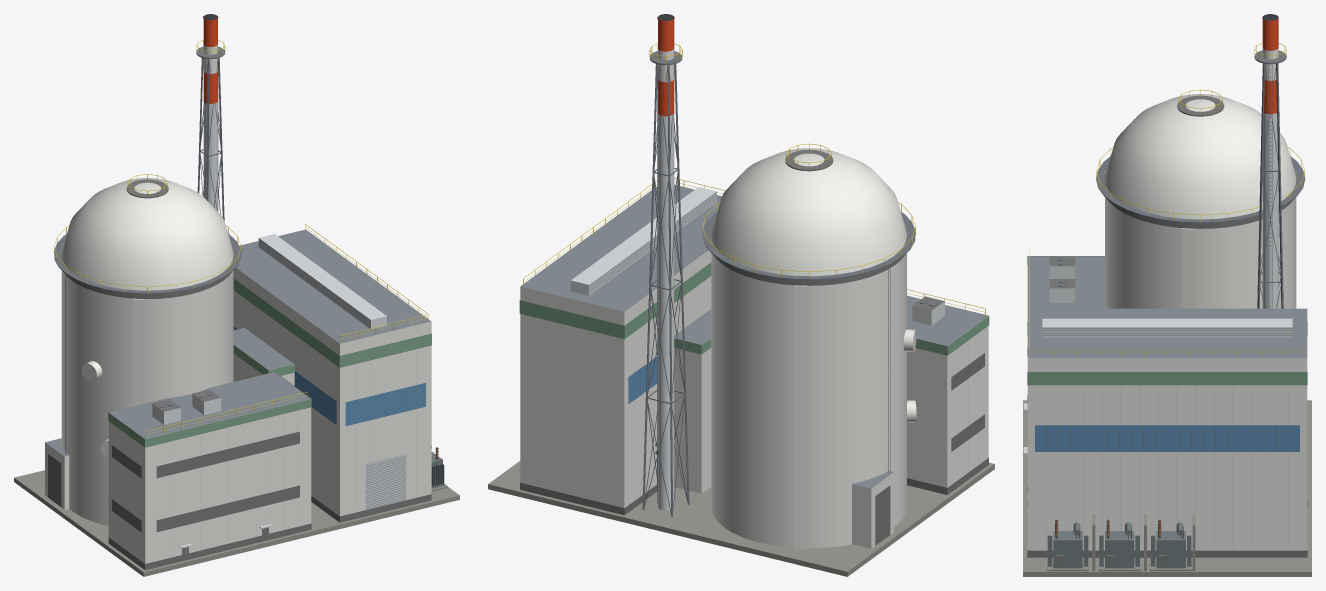
Rendered from mashup-main-top-prebuilt_close.fbx.
3 renders of one model, left to right at view 1: azimuth 30°, elevation 25°; view 2: azimuth 150°, elevation 25°; view 3: azimuth 270°, elevation 25°, orthographic. The views are drawn at different scales.
Visible parts, largest first — view 1: a1057/0/mashup-main-top-prebuilt_close; view 2: a1057/0/mashup-main-top-prebuilt_close; view 3: a1057/0/mashup-main-top-prebuilt_close.
Part boxes in pixels (left/top/right/bottom): a1057/0/mashup-main-top-prebuilt_close: left=14, top=14, right=459, bottom=576; a1057/0/mashup-main-top-prebuilt_close: left=488, top=14, right=994, bottom=576; a1057/0/mashup-main-top-prebuilt_close: left=1023, top=14, right=1311, bottom=576.
Bounding box in the file's own units: 55.2 × 72.6 × 39.2.
